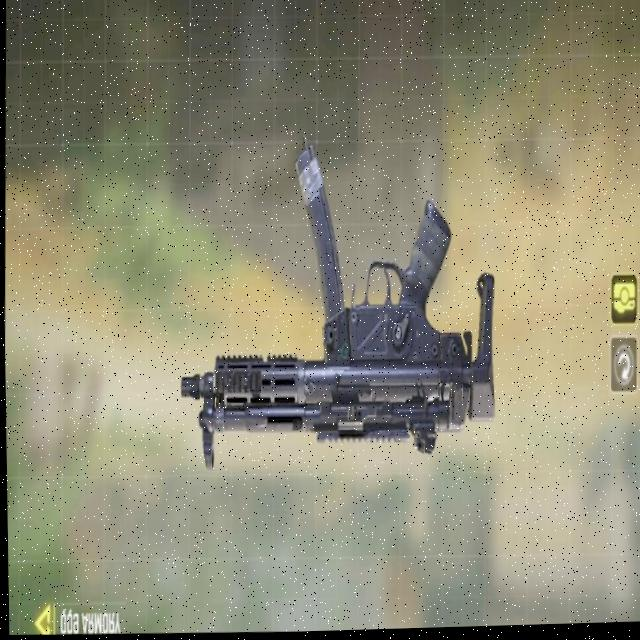firearm: (173, 124, 501, 477)
